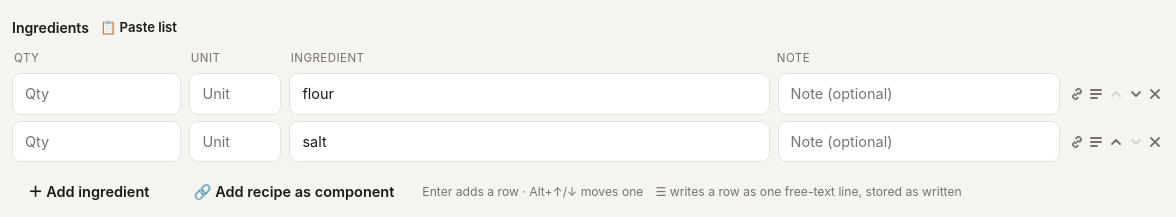
Test: IngredientRows undo + reorder safety › a pending undo is dropped when the parent replaces the whole list
The width and height of the screenshot is (1176, 217).
Click the 2nd button named "Remove".
click(1155, 142)  # box [1146, 128, 1164, 156]
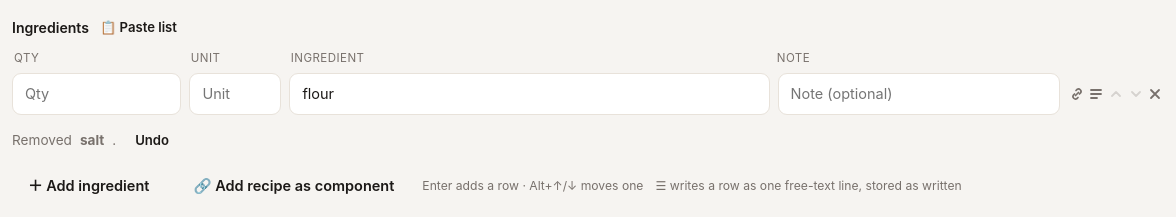
Result: the element with class "undo" is shown at [12, 125, 180, 156]
